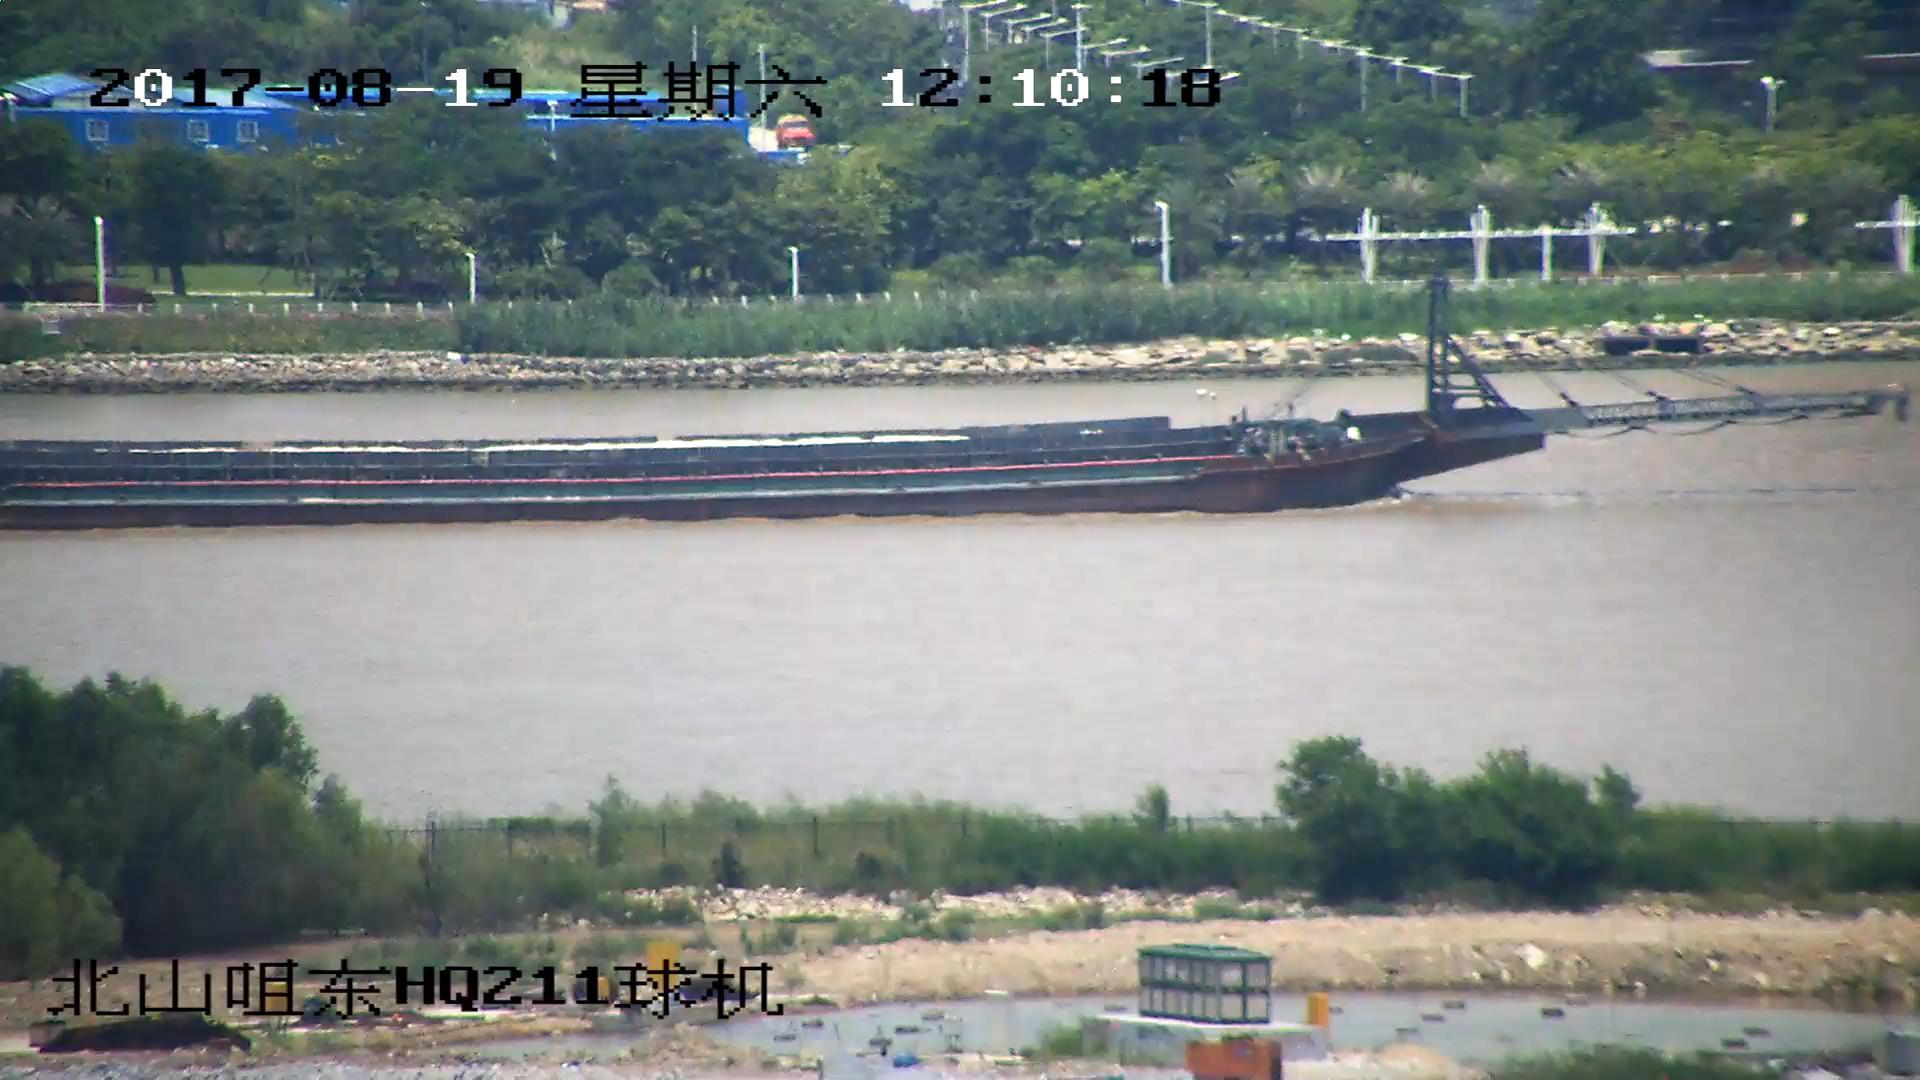Ship: (3, 280, 1904, 534)
